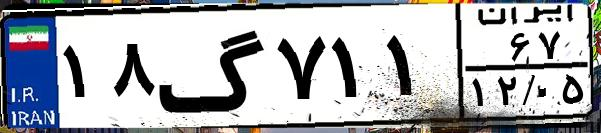0: (535, 70, 560, 125)
1: (385, 28, 445, 110), (330, 28, 385, 110), (57, 26, 110, 100), (470, 70, 495, 125)
2: (495, 70, 520, 125)
5: (560, 70, 590, 125)
6: (508, 27, 537, 80)
7: (270, 28, 330, 110), (537, 27, 568, 80)
8: (110, 28, 156, 98)
گ: (156, 12, 270, 120)
